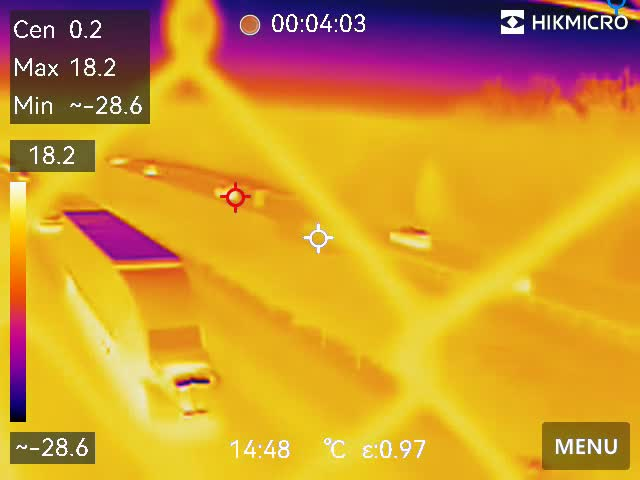heavyTruck: (55, 203, 225, 437)
